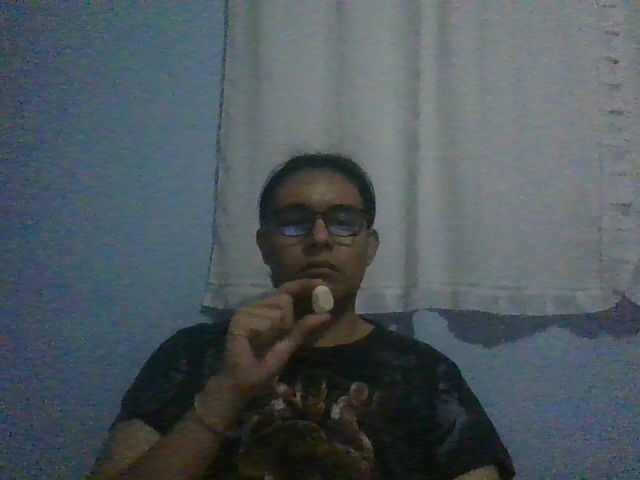goma: (311, 285, 335, 314)
